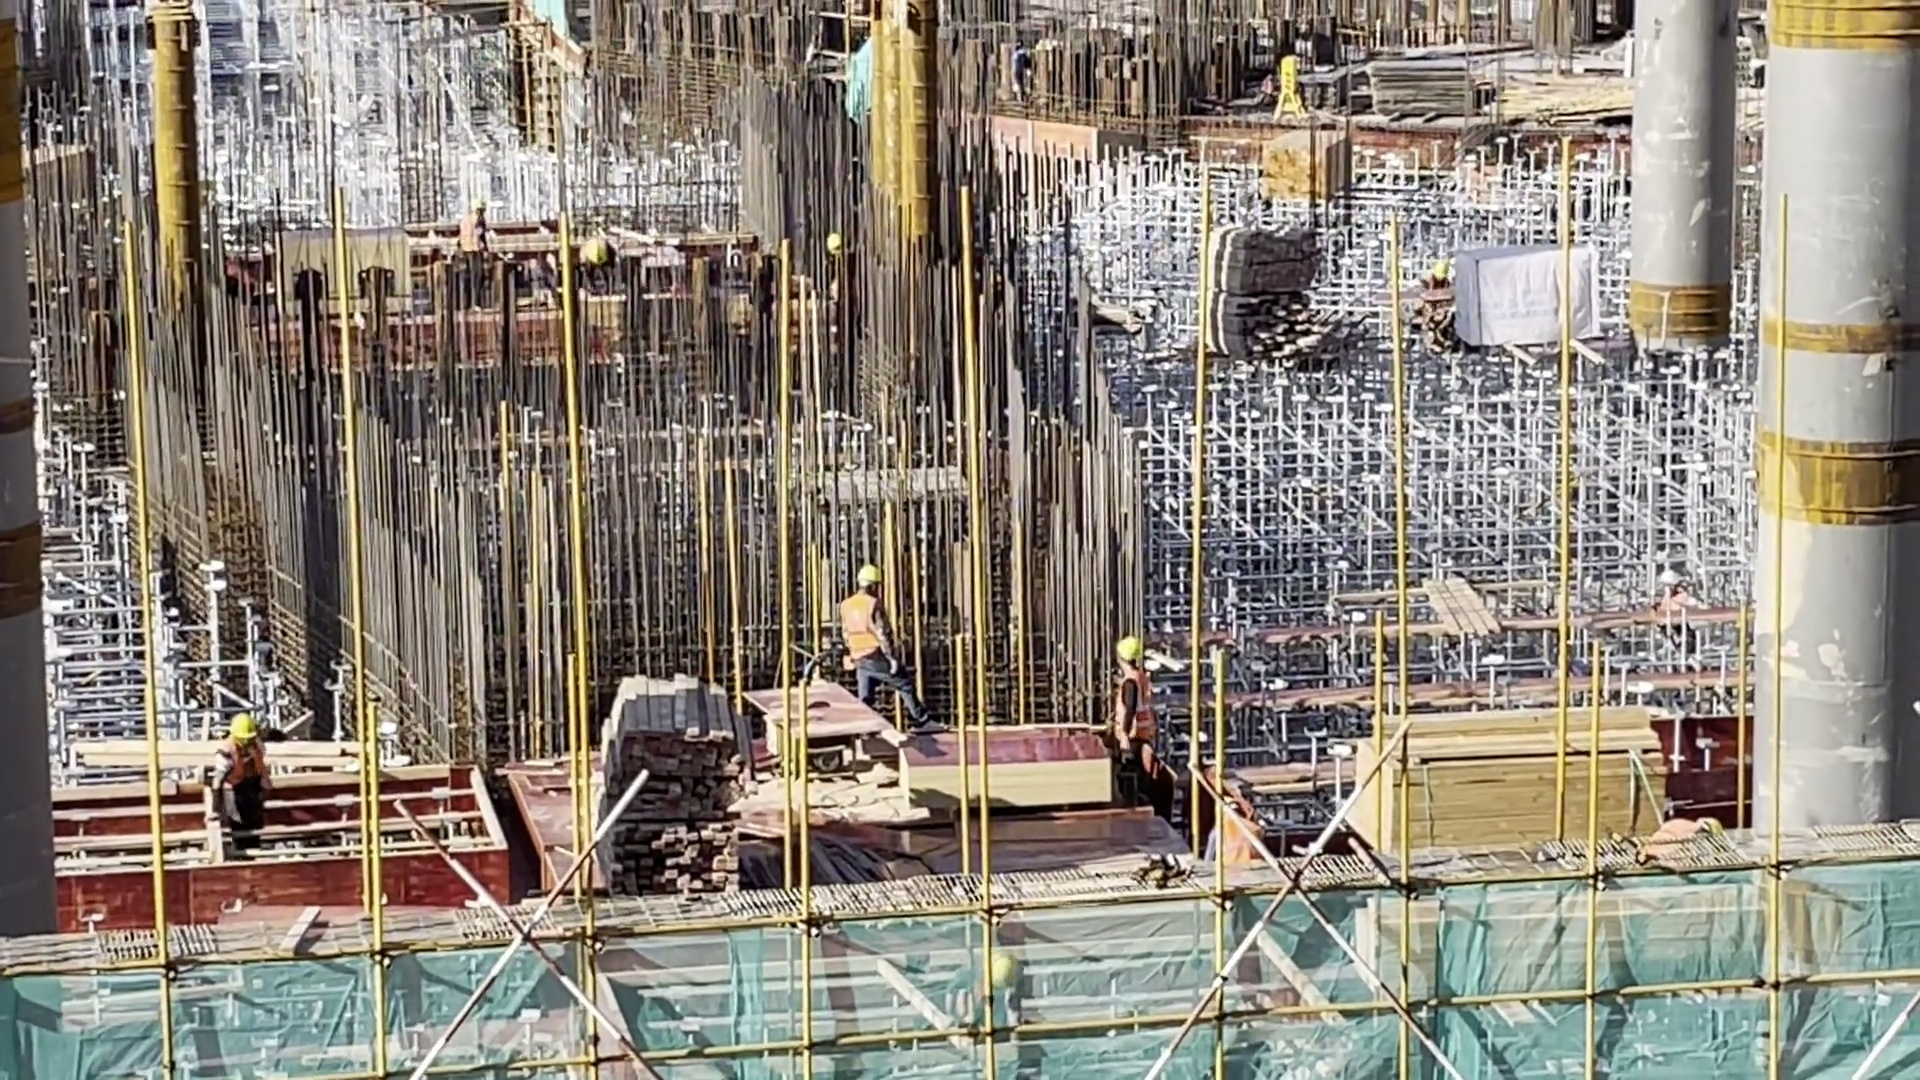helmet: (227, 714, 260, 743), (1111, 637, 1143, 663), (855, 564, 882, 584), (1701, 818, 1724, 838), (823, 232, 840, 253), (472, 198, 486, 210)
person: (828, 565, 947, 733), (214, 713, 288, 828), (1107, 635, 1155, 806), (453, 199, 497, 260), (1655, 815, 1724, 838)
vest: (838, 595, 885, 658), (1117, 671, 1157, 743), (454, 213, 486, 252), (1656, 819, 1704, 839)
